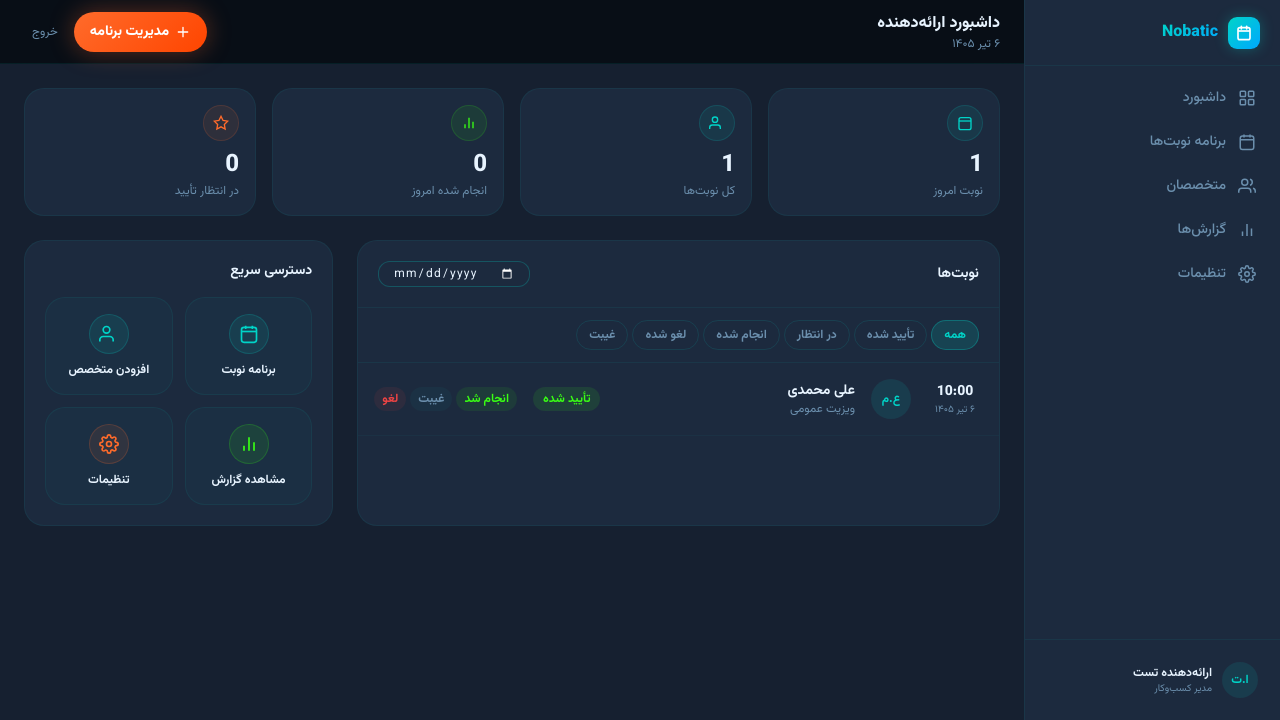
Test: confirm dialog › clicking غیبت opens confirm dialog with correct question
The image size is (1280, 720).
# "غیبت" also appears as a status filter button — scope click to the appointment row
Click the button "غیبت" in the row of "علی محمدی": click(431, 399) x1=410 y1=387 x2=452 y2=411
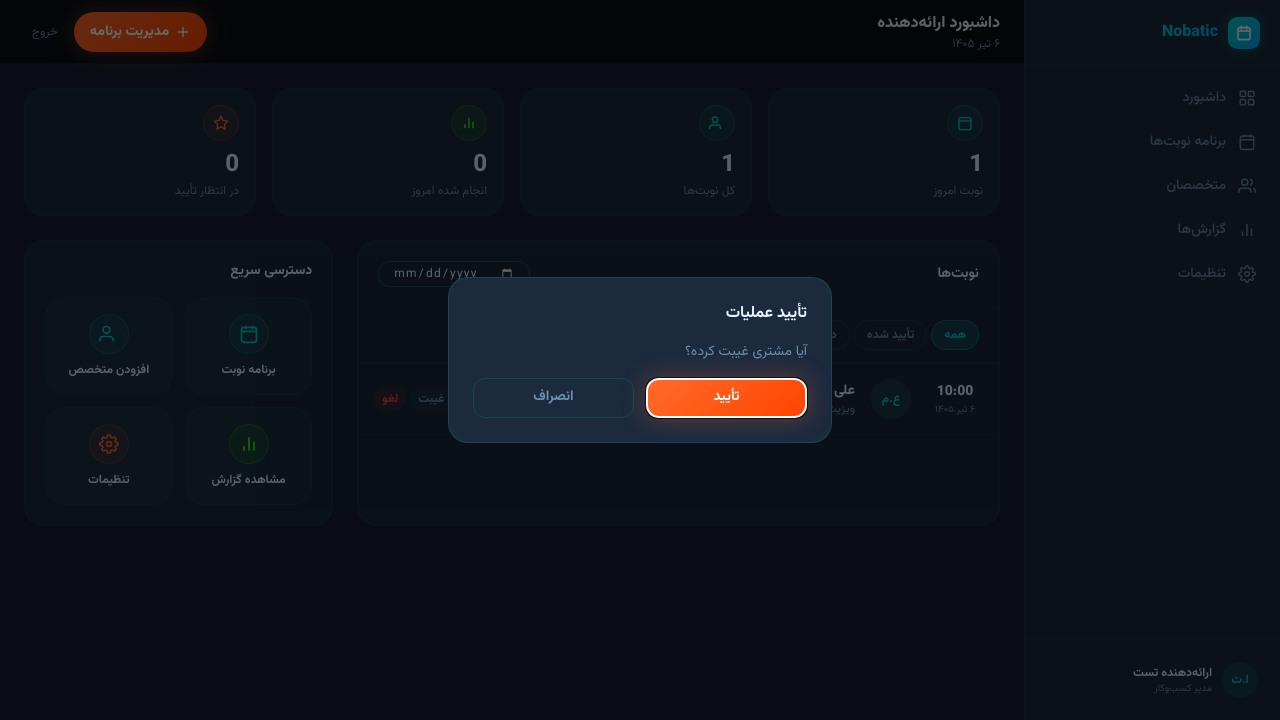
Now the text "آیا مشتری غیبت کرده؟" is shown, box x1=685 y1=341 x2=807 y2=363
